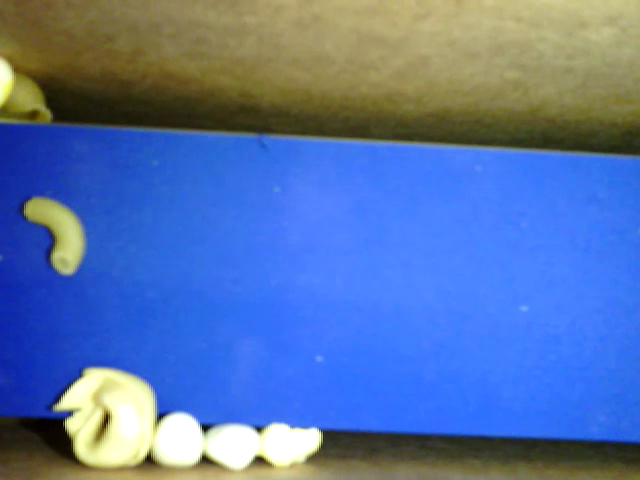elbow: (24, 198, 85, 280)
shell: (1, 70, 53, 129)
tortellini: (53, 367, 156, 466)
